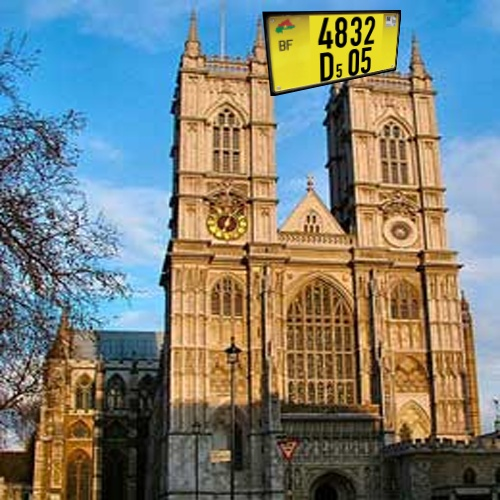plate: (253, 6, 416, 103)
